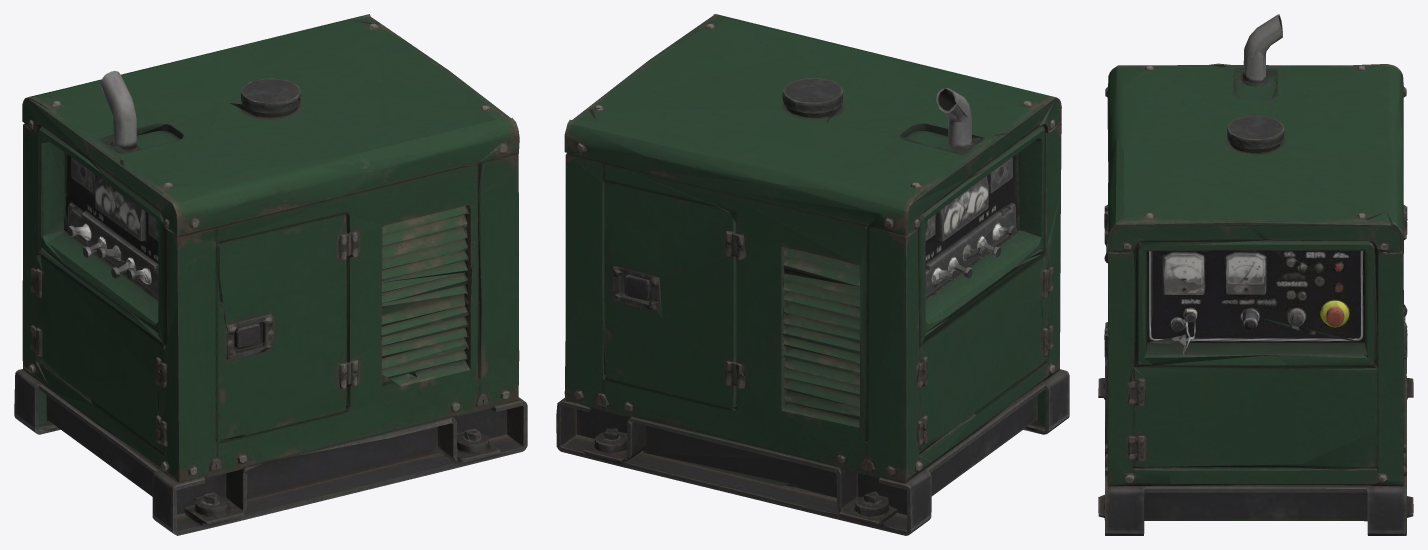
Rendered from generatorlv1-v1.glb.
3 views of the same model, side by side, from view 1: azimuth 30°, elevation 25°; view 2: azimuth 150°, elevation 25°; view 3: azimuth 270°, elevation 25° (orthographic). The views are drawn at different scales.
Visible parts, largest first — view 1: output_unwrapped; view 2: output_unwrapped; view 3: output_unwrapped.
Part boxes in pixels (x1,y1,x2,y2): output_unwrapped: (14, 14, 527, 535); output_unwrapped: (556, 14, 1069, 535); output_unwrapped: (1098, 14, 1413, 535).
Bounding box in the file's own units: 1.8 × 1.9 × 1.45.
Materials: 1 (1 with a texture image).
